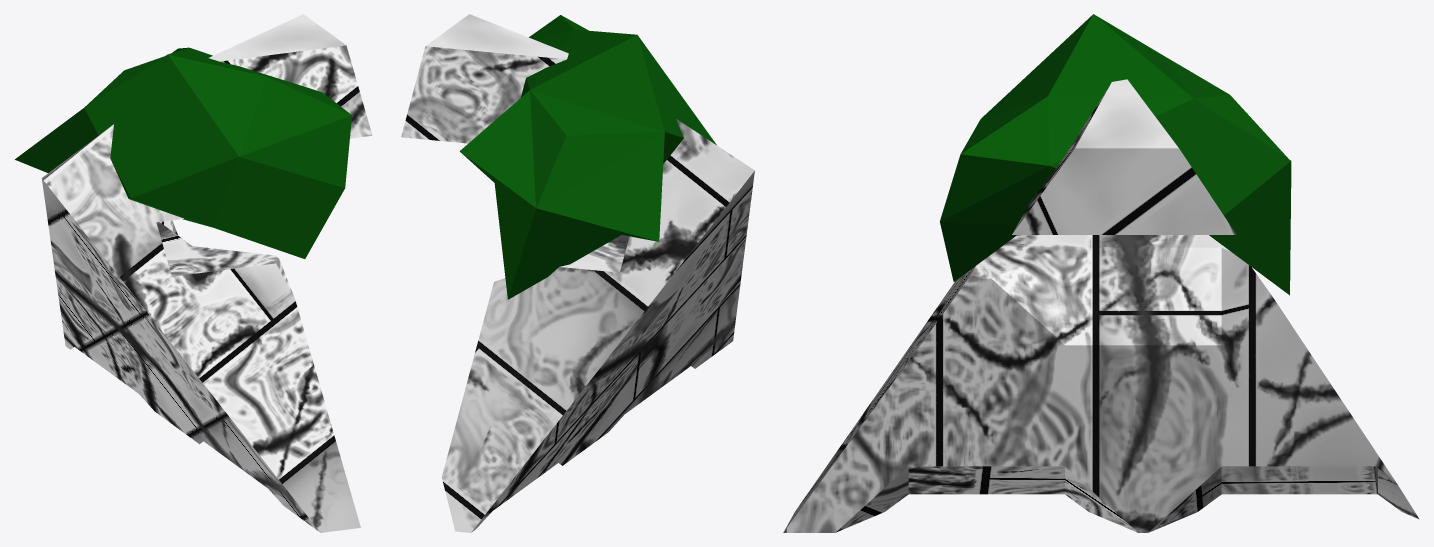
File: building_frag03.fbx
3 views of the same model, side by side, from view 1: azimuth 30°, elevation 25°; view 2: azimuth 150°, elevation 25°; view 3: azimuth 270°, elevation 25° (orthographic). The views are drawn at different scales.
Parts seen in each view (by area): view 1: building_frag03; view 2: building_frag03; view 3: building_frag03.
Boxes of the visible parts, left/top/right/bottom form: building_frag03: left=15, top=14, right=372, bottom=532; building_frag03: left=401, top=14, right=754, bottom=532; building_frag03: left=783, top=14, right=1419, bottom=532.
Bounding box in the file's own units: 134 × 173 × 208.
